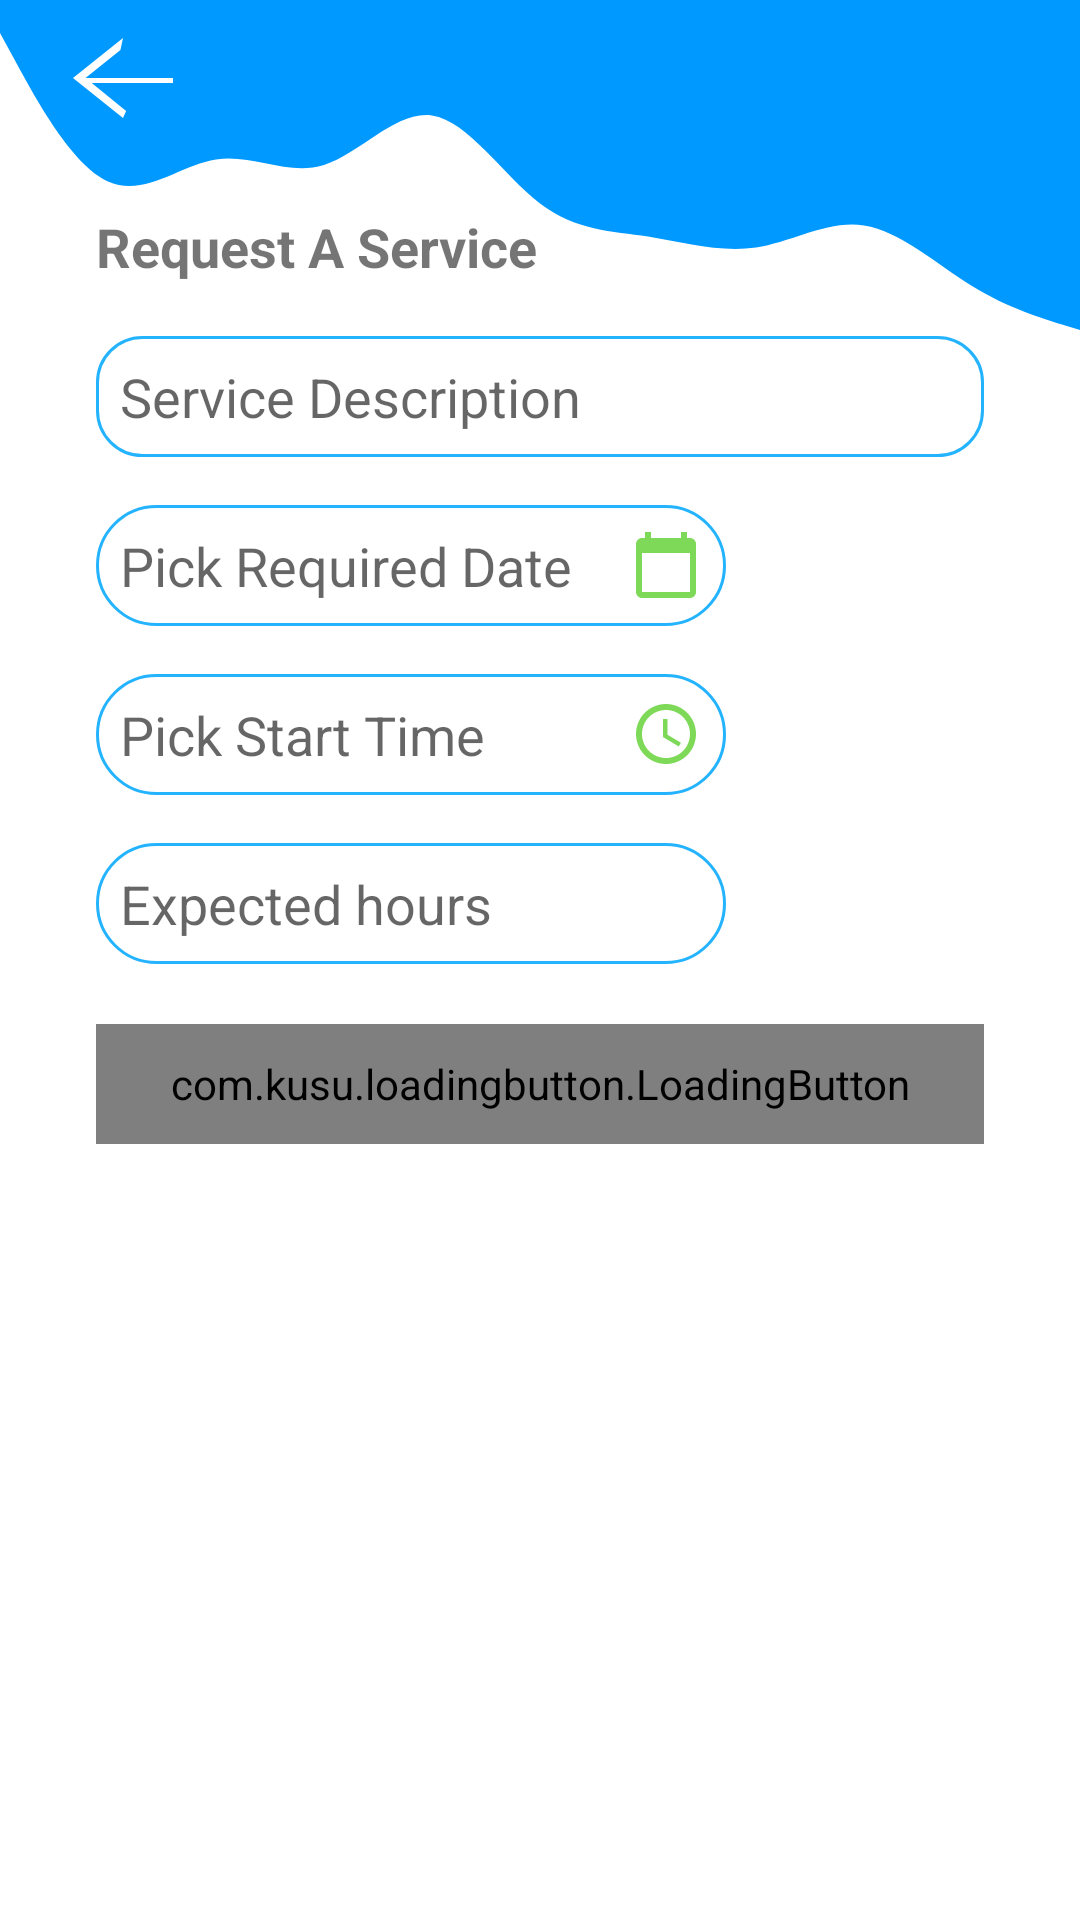

Screen size 1080*1920. Icon name, then its center in pixels as (x,y):
back arrow: (123,78)
